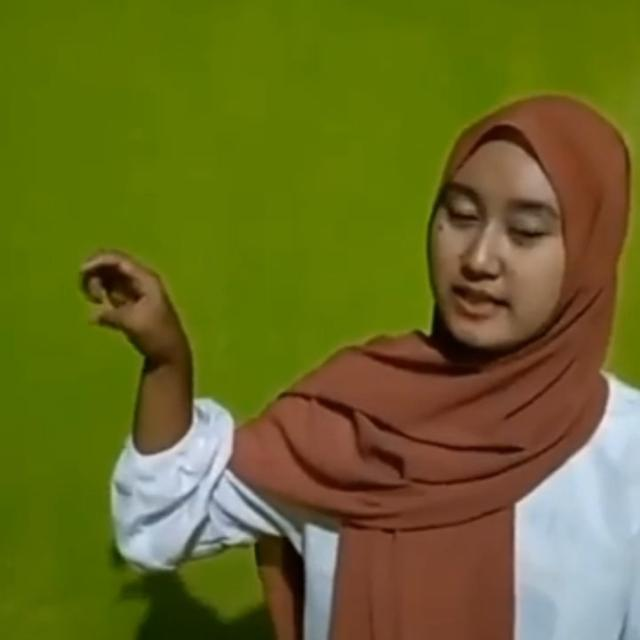C: (74, 247, 196, 373)
